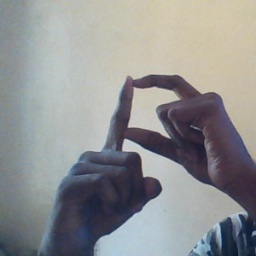D: (85, 67, 221, 190)
